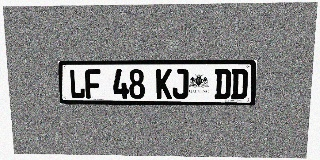4: (113, 69, 129, 99)
8: (129, 69, 145, 99)
D: (214, 69, 231, 99), (231, 69, 248, 99)
F: (85, 69, 101, 99)
J: (172, 69, 188, 99)
K: (156, 69, 172, 99)
L: (69, 69, 85, 98)
